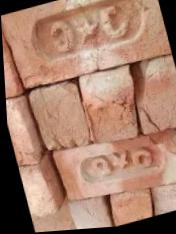brick: (0, 0, 174, 96), (50, 117, 176, 215), (76, 62, 146, 149), (28, 76, 92, 156), (125, 49, 176, 136), (18, 158, 58, 219), (6, 92, 38, 168), (107, 184, 155, 226), (67, 193, 114, 230), (1, 14, 20, 98), (149, 177, 176, 215)
